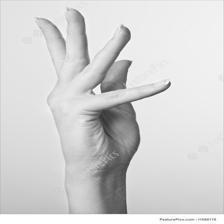Hand: (2, 59, 109, 169), (112, 52, 222, 130)
